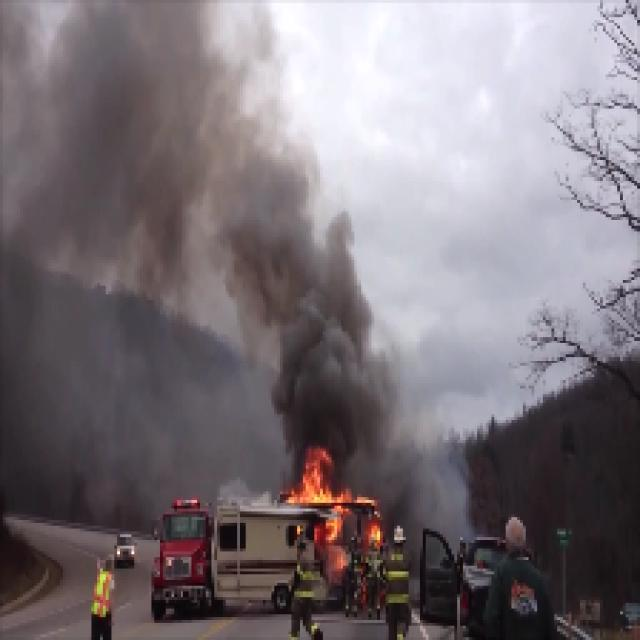fire: (297, 466, 325, 498)
smoke: (78, 34, 189, 204), (292, 256, 358, 446), (198, 146, 285, 271)
